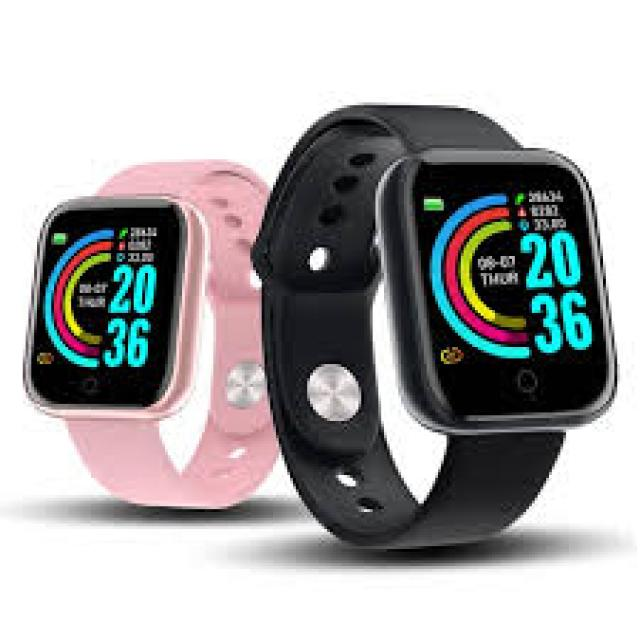objects: (253, 105, 614, 546), (23, 159, 276, 506)
